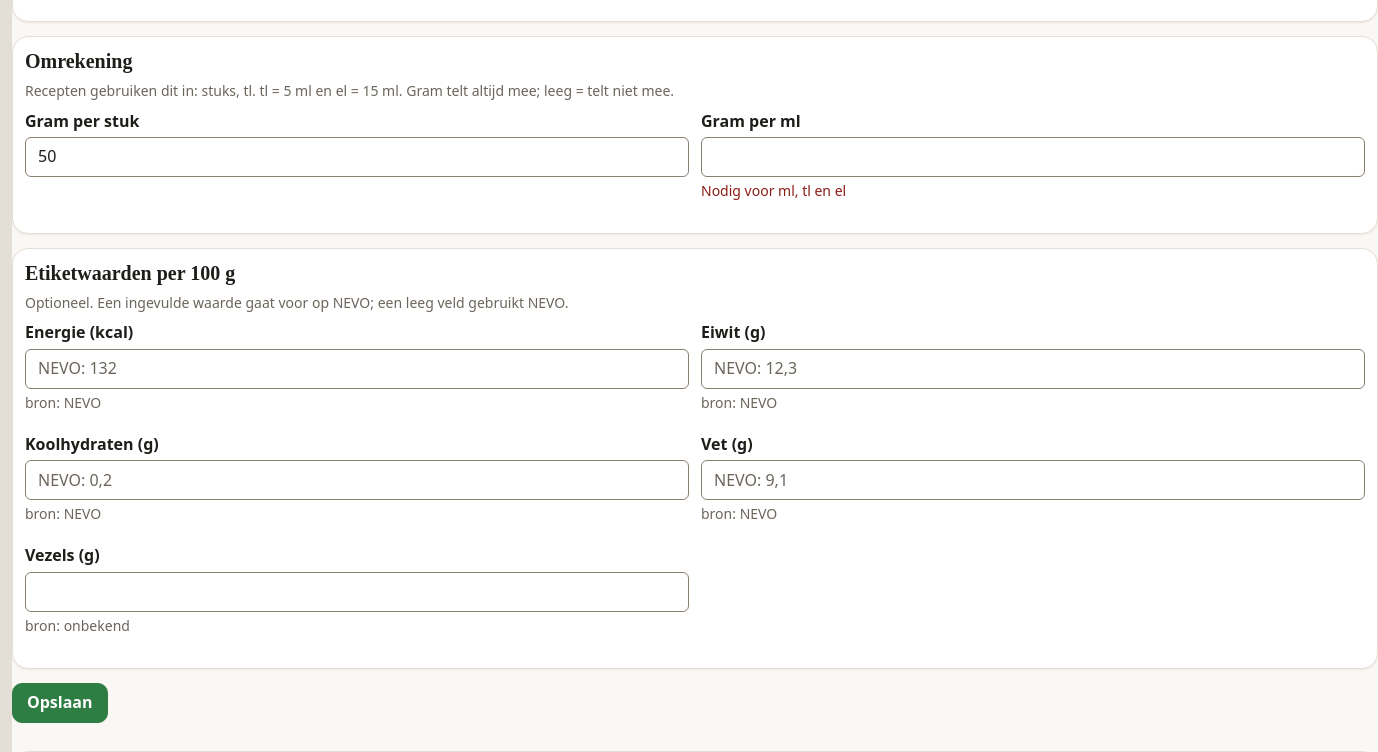
IngredientEditView › toont per voedingsstof de bron: etiket als ingevuld, anders NEVO of onbekend
The image size is (1378, 752).
(page scrolled)
Step 1. Type "140" into the field with id "label-kcal" → {"x": 357, "y": 369}, box [25,349,689,389]
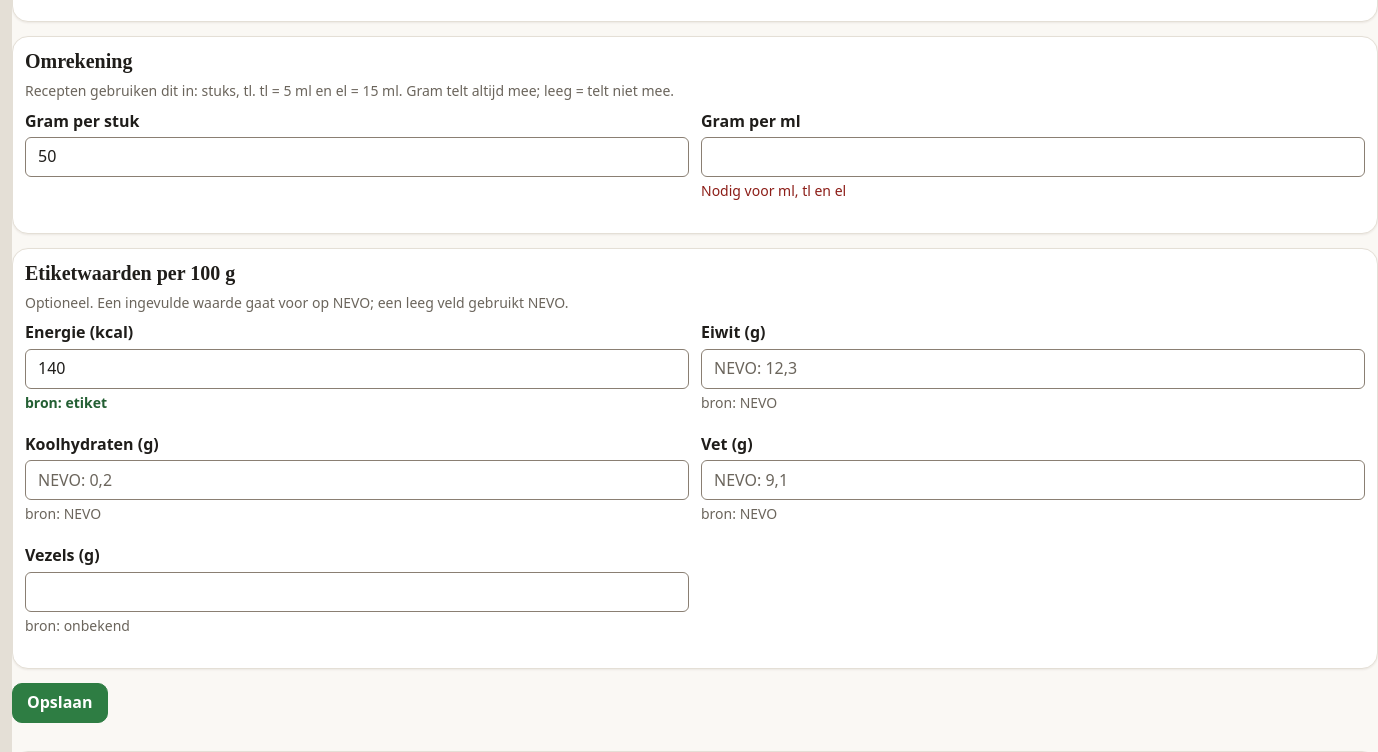
Result: the text with class "source" reads "bron: etiket" at [25,393,107,412]
